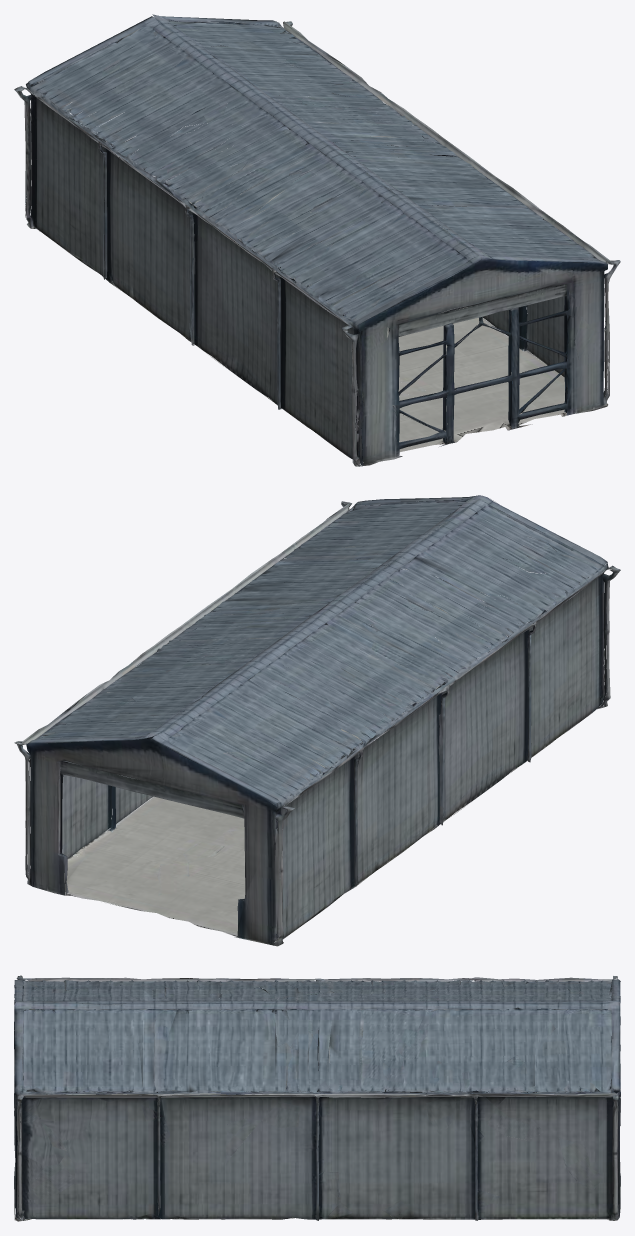
File: hafen_lagerhalle.glb
3 renders of one model, top to bottom at view 1: azimuth 30°, elevation 25°; view 2: azimuth 150°, elevation 25°; view 3: azimuth 270°, elevation 25°, orthographic. The views are drawn at different scales.
Parts seen in each view (by area): view 1: Prop; view 2: Prop; view 3: Prop.
Boxes of the visible parts, left/top/right/bottom form: Prop: left=14, top=14, right=620, bottom=466; Prop: left=14, top=495, right=620, bottom=946; Prop: left=14, top=975, right=620, bottom=1221.
Size of the model in its own units: 1.63 by 1 by 3.36.
Materials: 1 (1 with a texture image).
